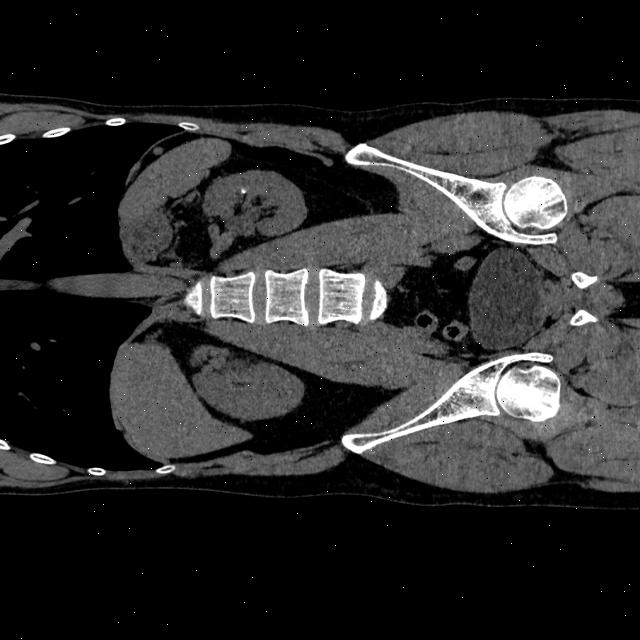kidneystone: (241, 187, 247, 194)
